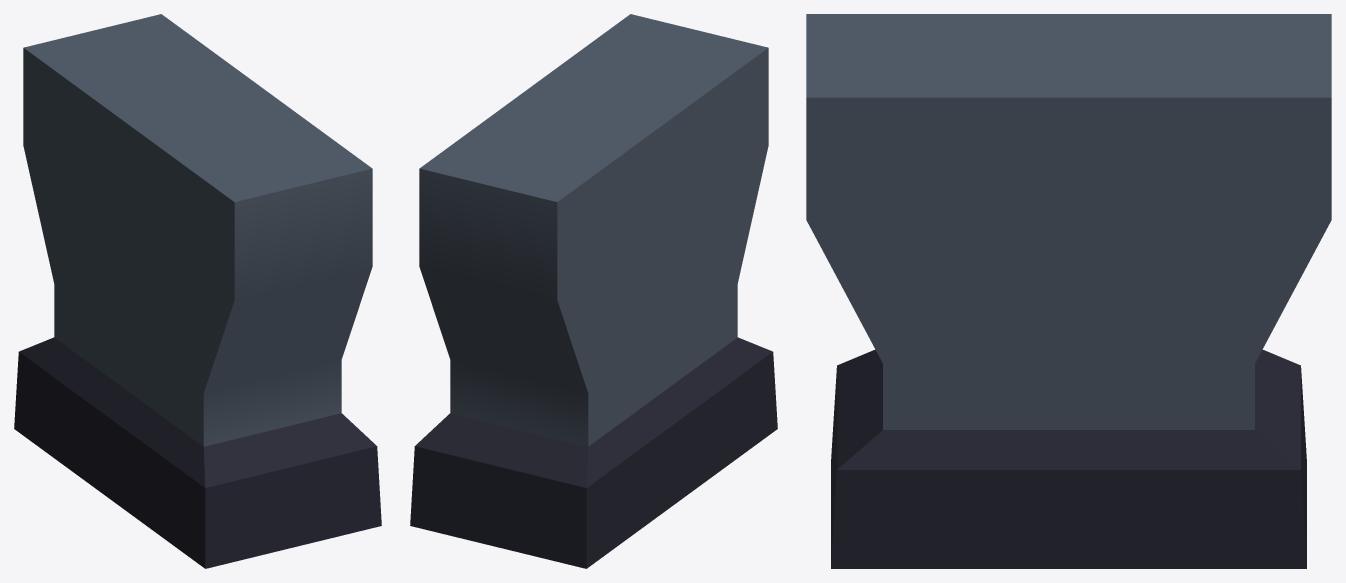
File: Pipe_1_A_5.fbx
The picture shows the model from 3 angles, left to right: view 1: azimuth 30°, elevation 25°; view 2: azimuth 150°, elevation 25°; view 3: azimuth 270°, elevation 25°; orthographic projection. The views are drawn at different scales.
Visible parts, largest first — view 1: Pipe_1_A_5; view 2: Pipe_1_A_5; view 3: Pipe_1_A_5.
Part boxes in pixels (x1,y1,x2,y2): Pipe_1_A_5: (14,14,381,568); Pipe_1_A_5: (410,14,777,568); Pipe_1_A_5: (806,14,1331,568).
Size of the model in its own units: 17 by 34.01 by 35.24.
